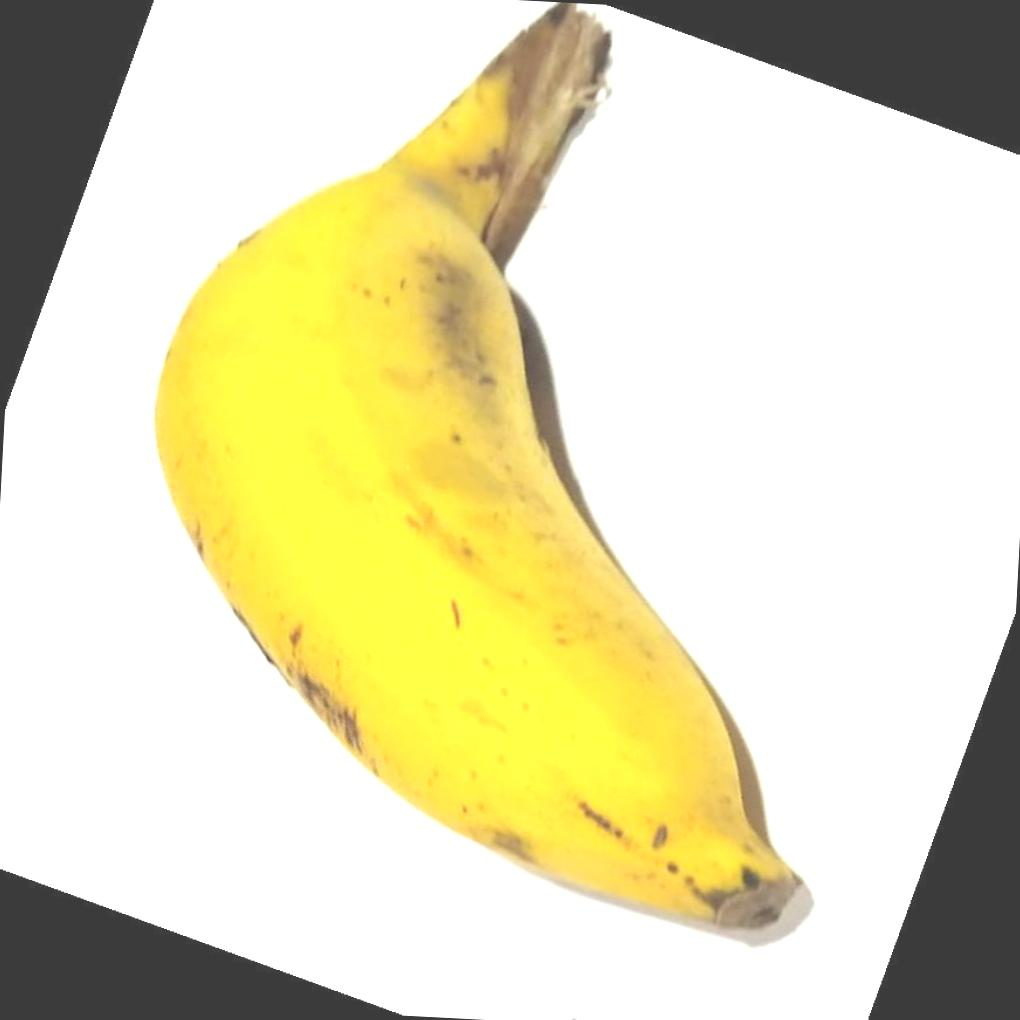Banana Ripe: (103, 0, 864, 1020)
